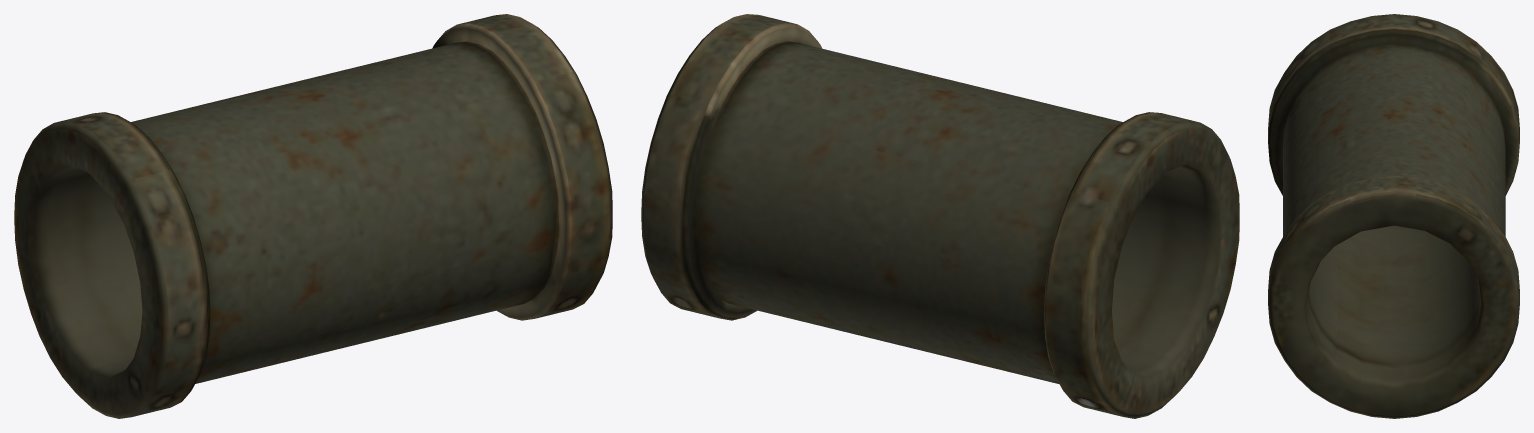
File: pipe_straight_duct_large.fbx
3 views of the same model, side by side, from view 1: azimuth 30°, elevation 25°; view 2: azimuth 150°, elevation 25°; view 3: azimuth 270°, elevation 25° (orthographic). The views are drawn at different scales.
Parts seen in each view (by area): view 1: pipe_straight_duct_large; view 2: pipe_straight_duct_large; view 3: pipe_straight_duct_large.
Part boxes in pixels (<box>): pipe_straight_duct_large: <box>14,14,612,418</box>; pipe_straight_duct_large: <box>641,14,1239,418</box>; pipe_straight_duct_large: <box>1268,14,1519,418</box>.
Size of the model in its own units: 121 by 70.75 by 70.96.
1 material, 1 textured.
